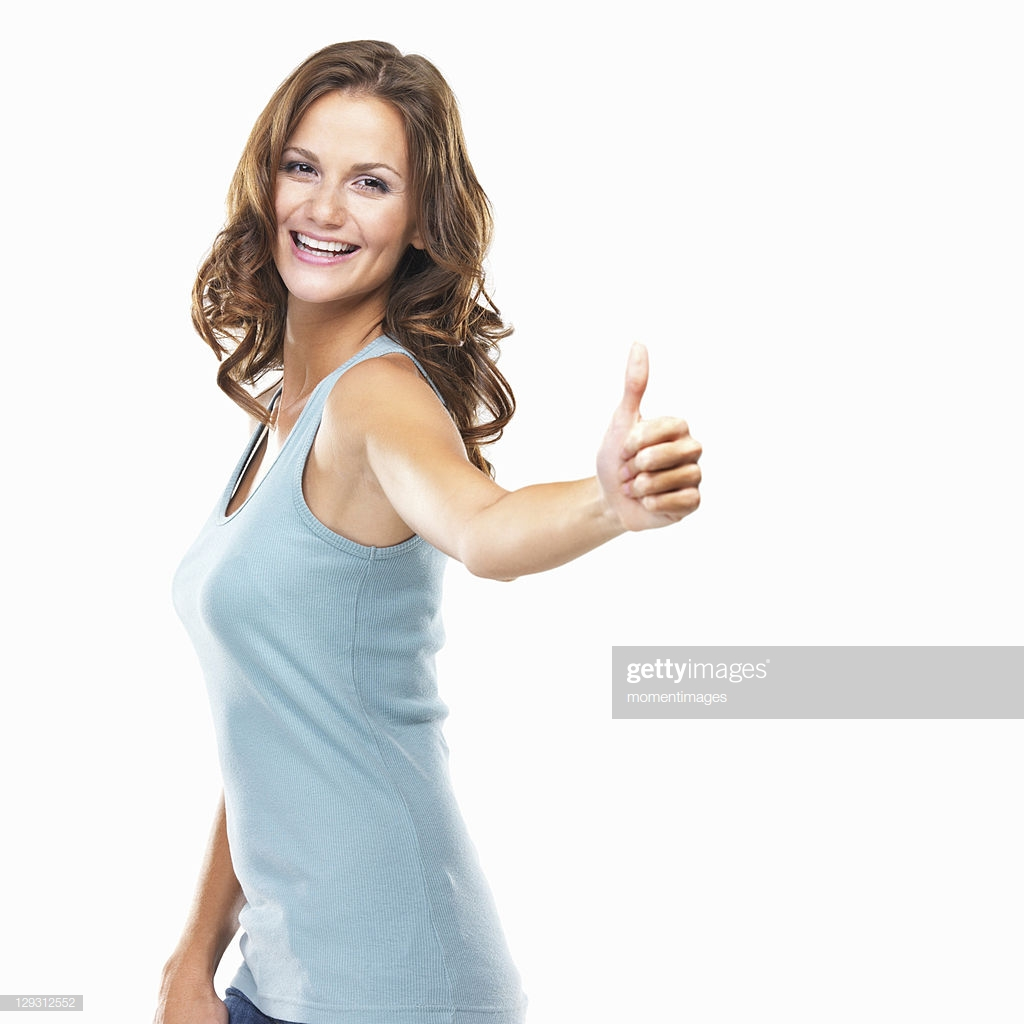thumbsup: (613, 340, 703, 517)
